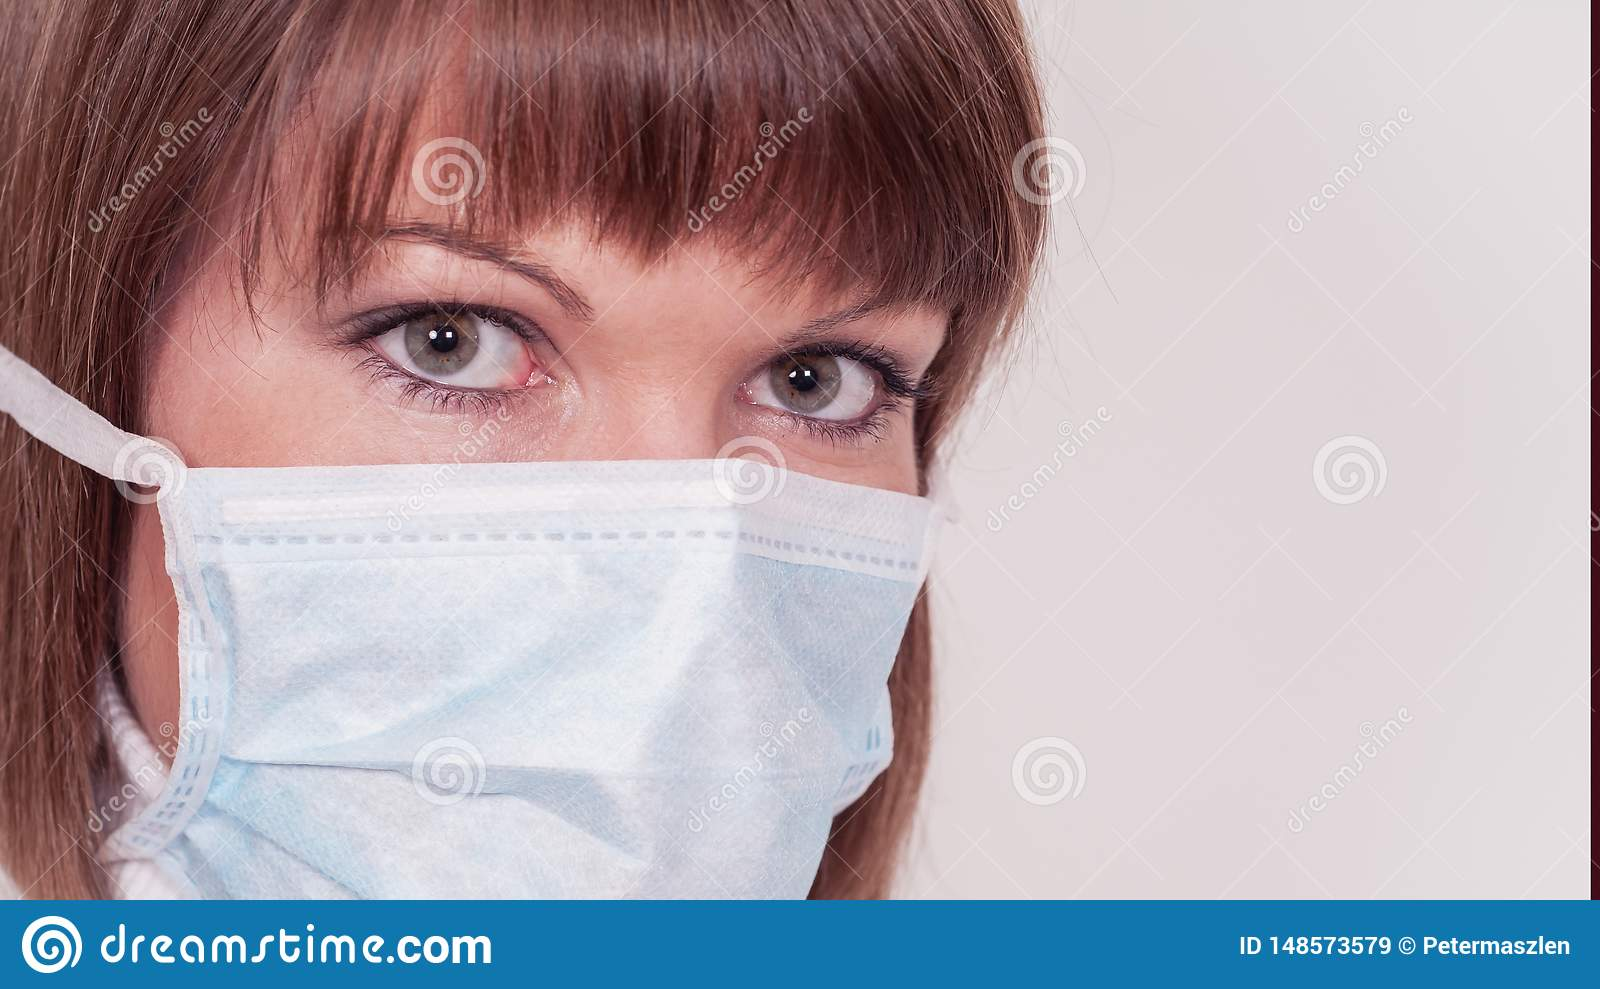mask: (86, 461, 946, 910)
